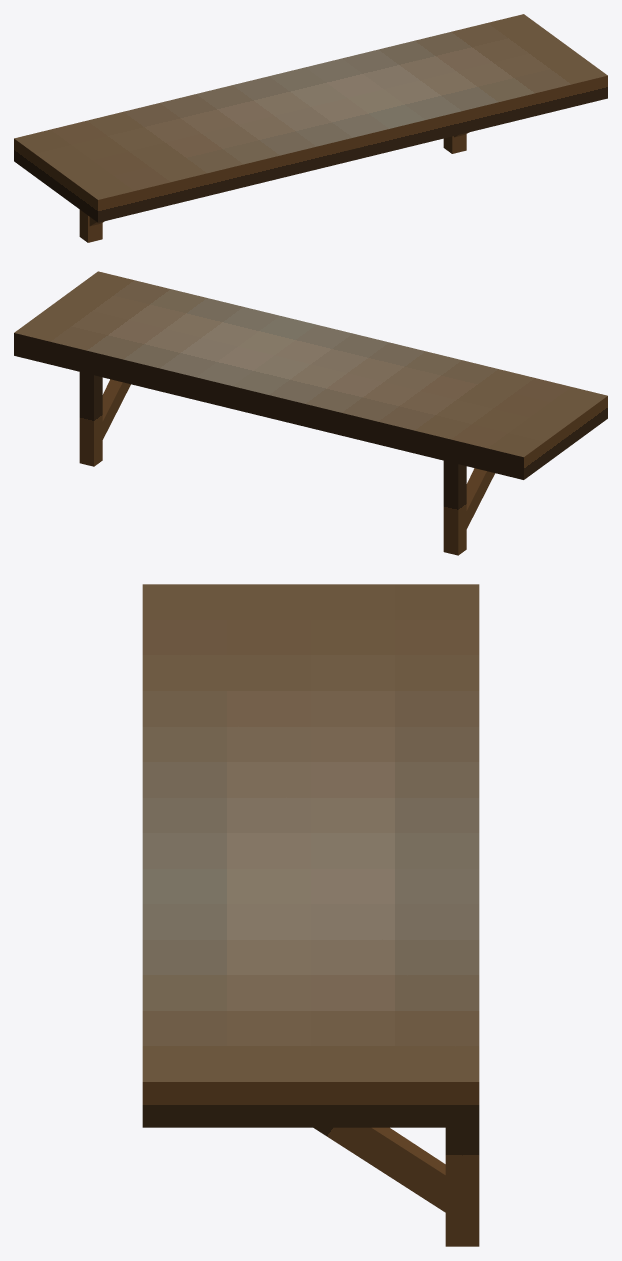
The model's file is wallShelf.fbx.
3 views of the same model, one above another, from view 1: azimuth 30°, elevation 25°; view 2: azimuth 150°, elevation 25°; view 3: azimuth 270°, elevation 25° (orthographic). The views are drawn at different scales.
Parts seen in each view (by area): view 1: cuboid, cuboid_4, cuboid_1; view 2: cuboid, cuboid_4, cuboid_1, cuboid_3, cuboid_2; view 3: cuboid, cuboid_2, cuboid_1.
Boxes of the visible parts, box(x1,y1,x2,y2) form: cuboid: box(14, 14, 607, 222); cuboid_4: box(79, 210, 102, 242); cuboid_1: box(443, 134, 466, 153); cuboid: box(14, 271, 607, 479); cuboid_4: box(443, 460, 466, 555); cuboid_1: box(79, 372, 102, 466); cuboid_3: box(466, 468, 494, 528); cuboid_2: box(102, 379, 130, 439); cuboid: box(142, 584, 479, 1127); cuboid_2: box(313, 1127, 445, 1212); cuboid_1: box(445, 1127, 479, 1246).
Bounding box in the file's own units: 43.75 × 9.38 × 12.5.
1 material, 1 textured.
